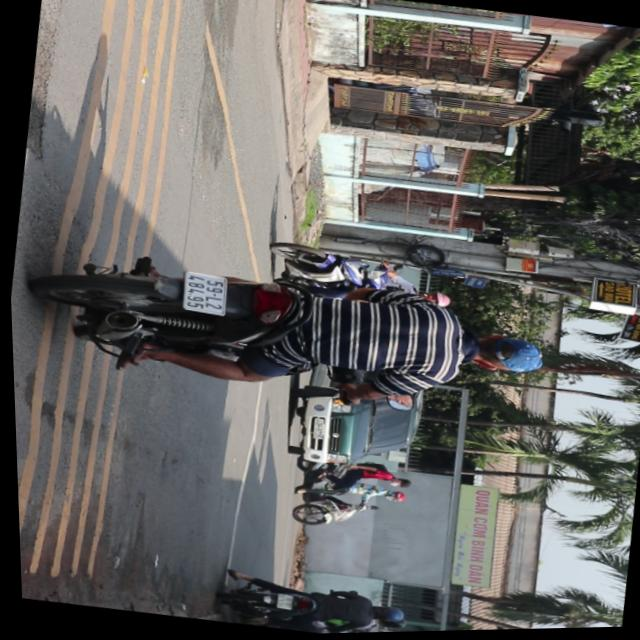helmet: (369, 603, 402, 625), (419, 289, 452, 308)
licenseplate: (21, 228, 556, 436), (263, 236, 460, 319), (211, 565, 407, 637)
motorcyclist: (461, 328, 546, 381)
nohelmet: (181, 272, 229, 315), (272, 593, 290, 611)
